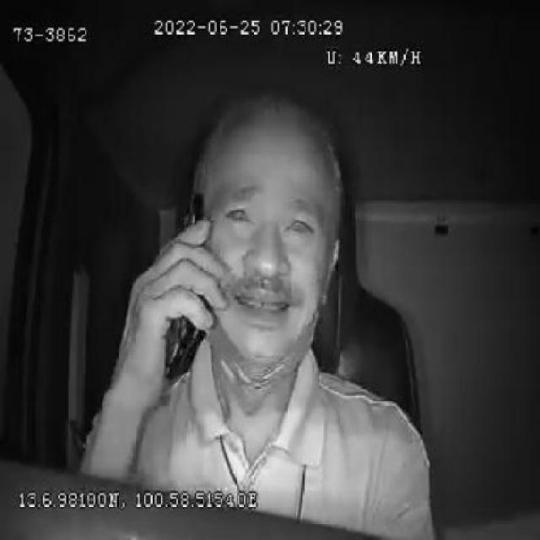phone: (164, 194, 205, 381)
